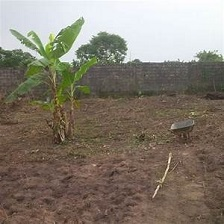loamy_soil: (11, 98, 212, 213)
